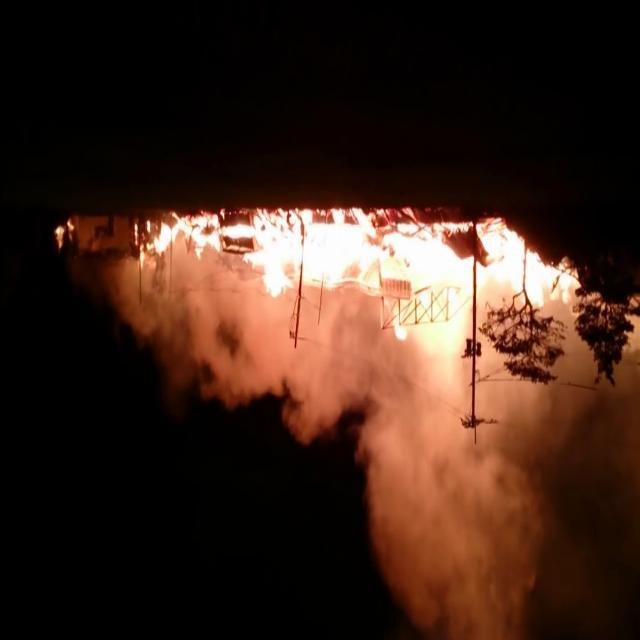Fire: (131, 212, 583, 354), (52, 218, 74, 252)
